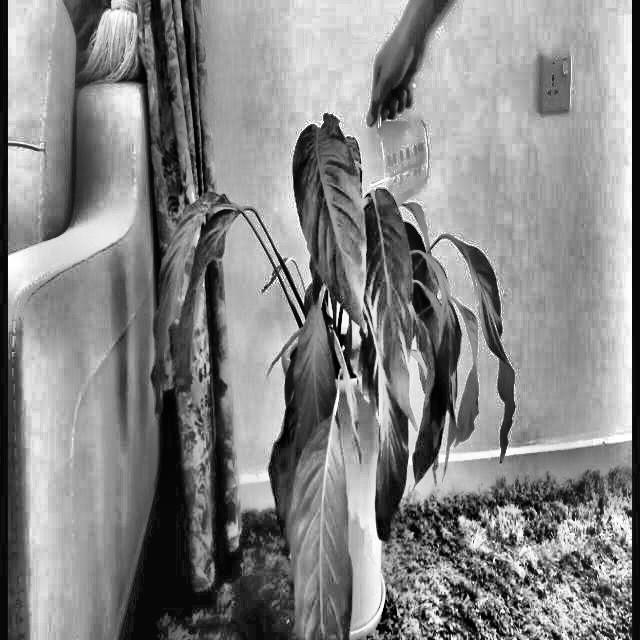plants: (133, 202, 524, 640)
